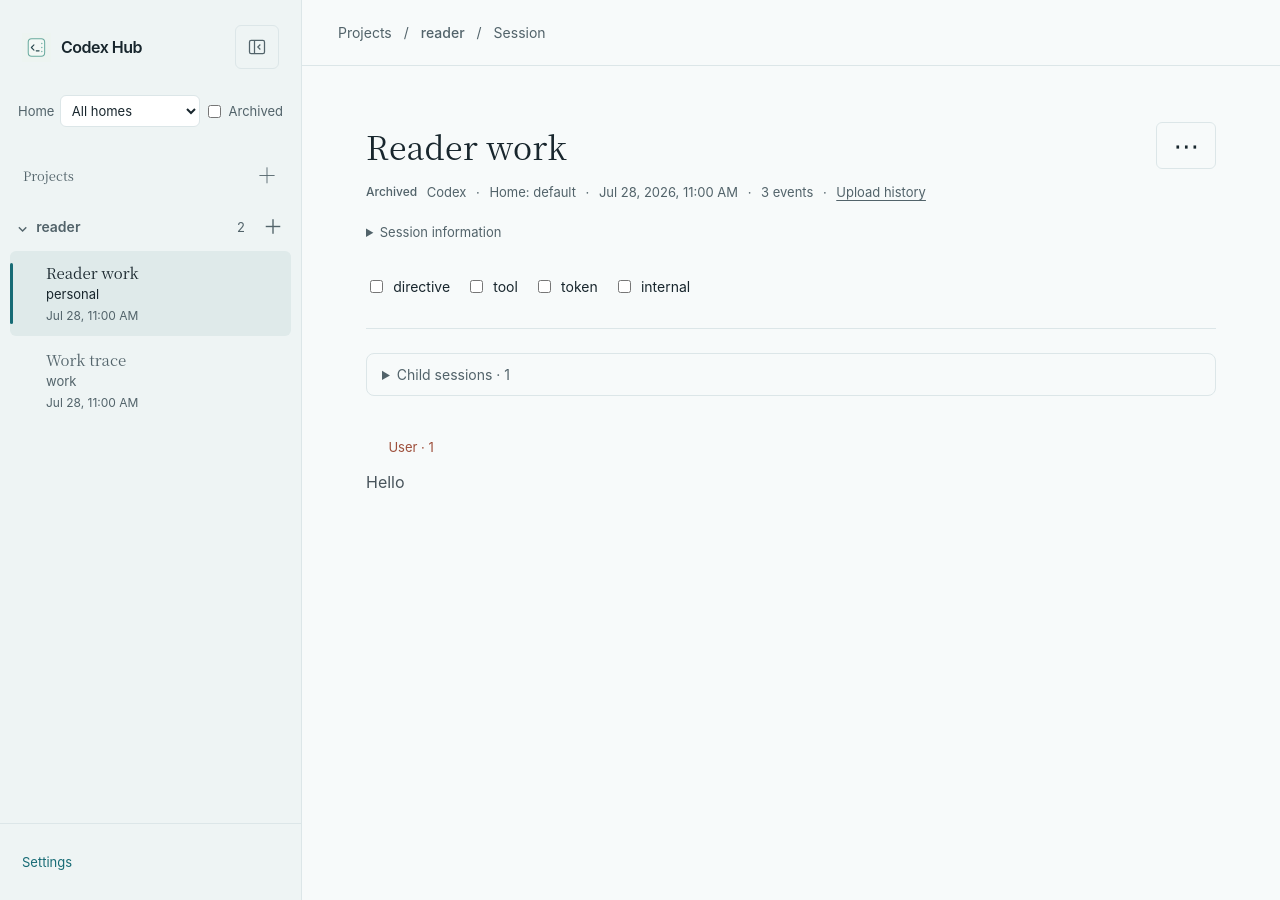
aggregates and filters merged projects, remembers the home and keeps a direct-linked reader open
Expected: the link "Work trace work Jul 28, 11:00 AM" is shown, [46,349,138,410]
Expected: the number of buttons named "reader, 2 main sessions" is 1, [10,205,252,249]
Select "work" in the dropdown named "Filter by home": (130, 111) [60,95,200,127]
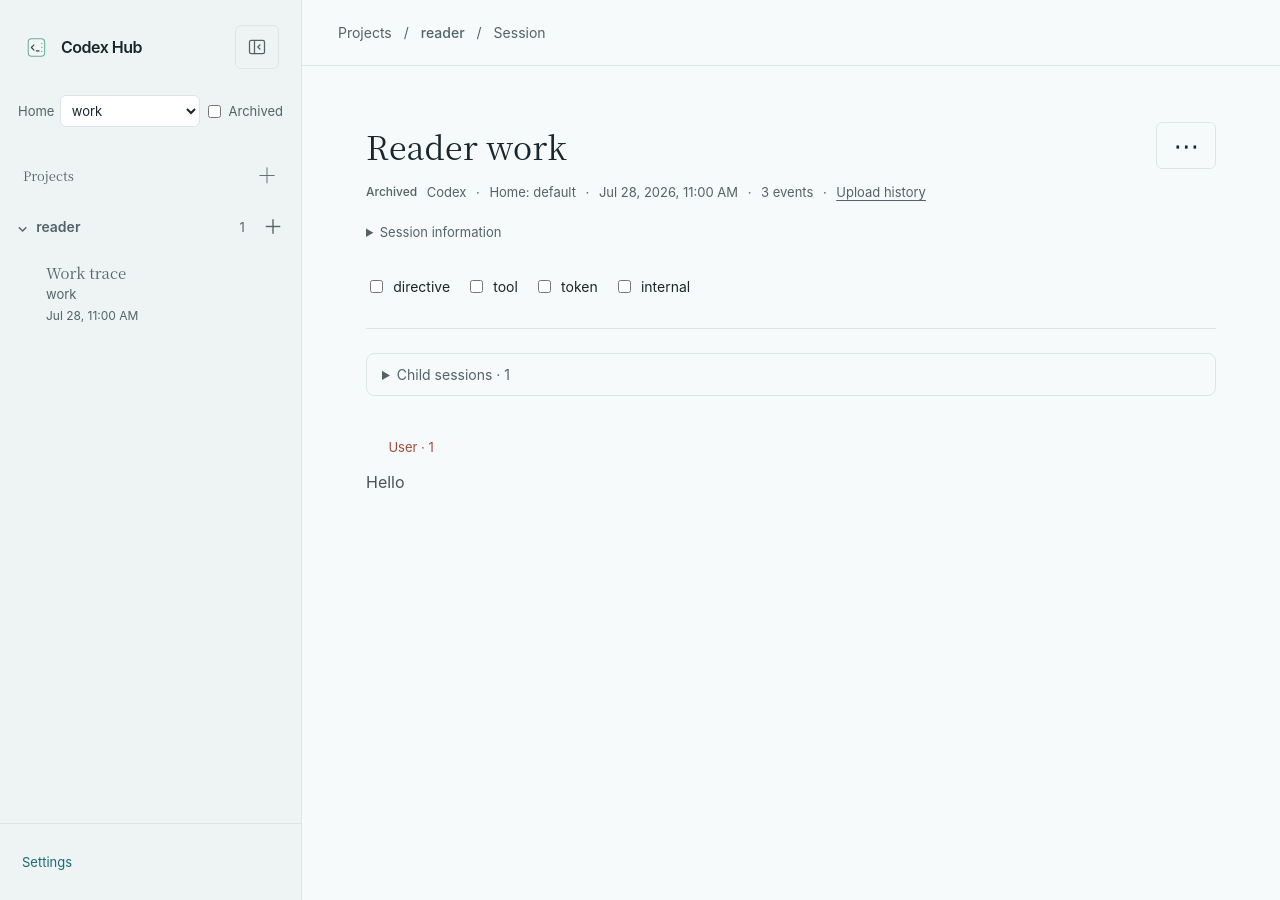
Expected: the link "Work trace work Jul 28, 11:00 AM" is shown, [46,262,138,323]
Expected: the heading "Reader work" is shown, [366,123,567,169]
Select "empty" in the dropdown named "Filter by home": (130, 111) [60,95,200,127]
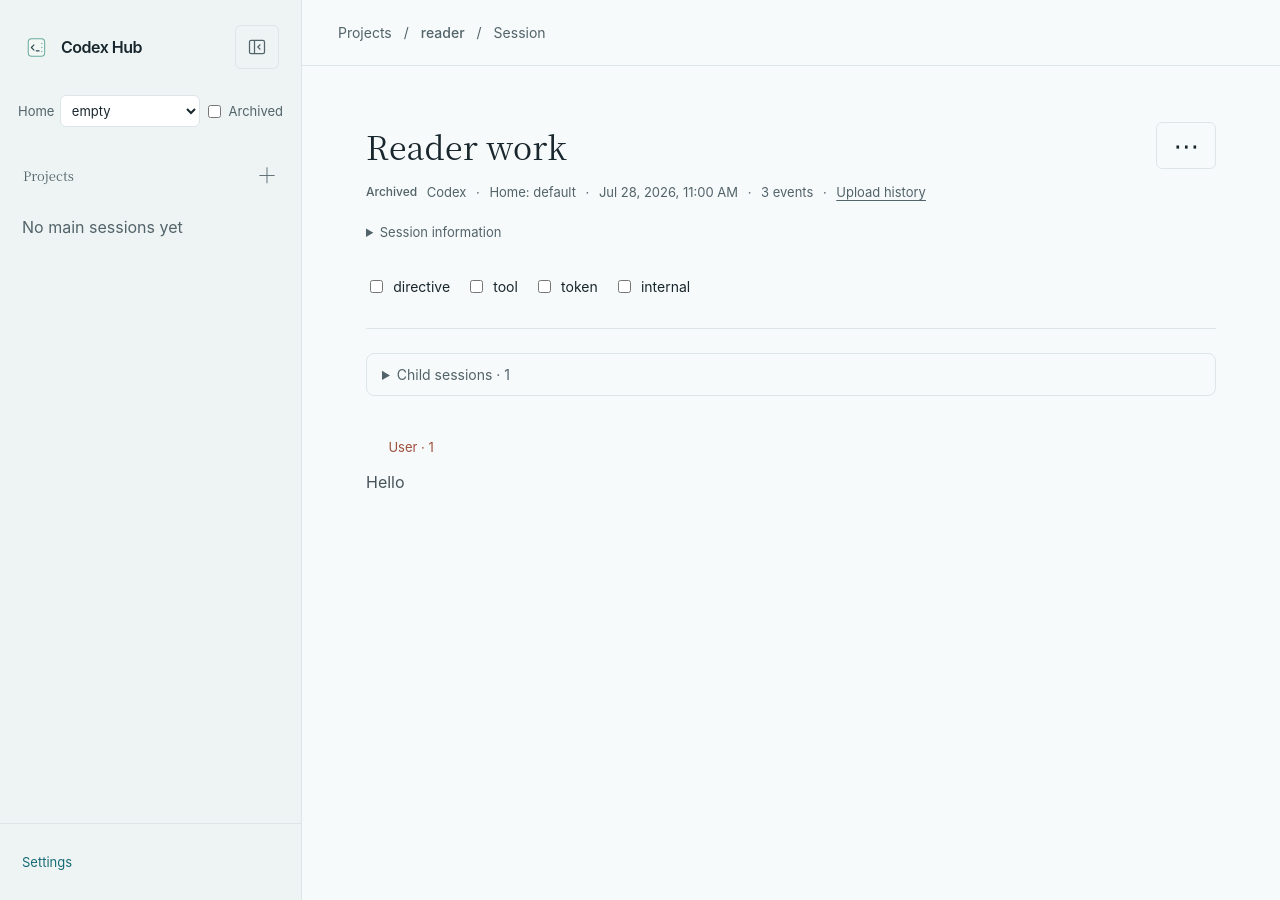
Expected: the text "No main sessions yet" is shown, [22,217,183,237]
Click the button named "New session": (267, 175) [251,153,283,197]
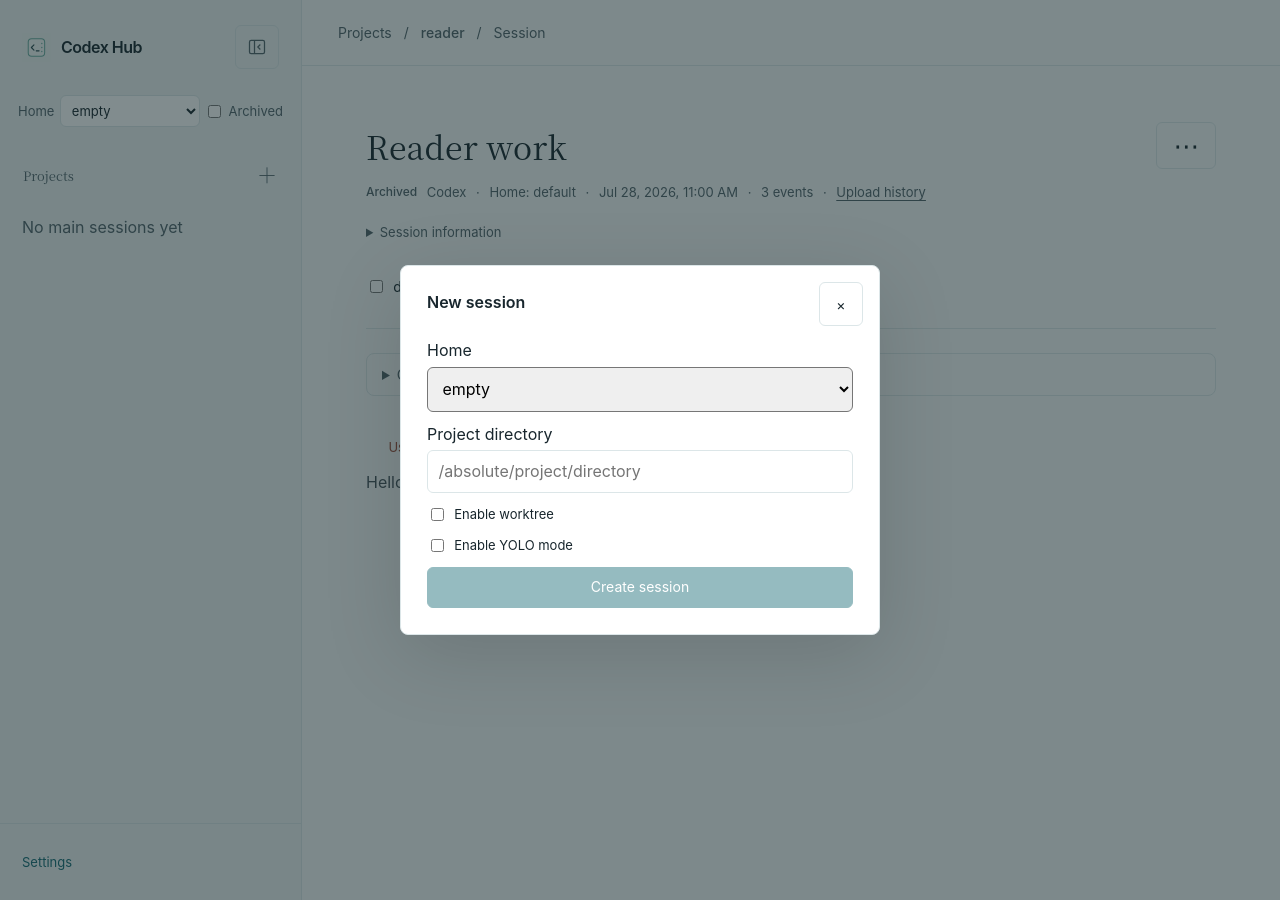
Expected: the dropdown named "Session home" shows "empty", [427,367,853,412]
